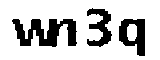3: (81, 5, 115, 52)
n: (53, 17, 80, 53)
q: (118, 16, 150, 59)
w: (9, 17, 55, 50)
